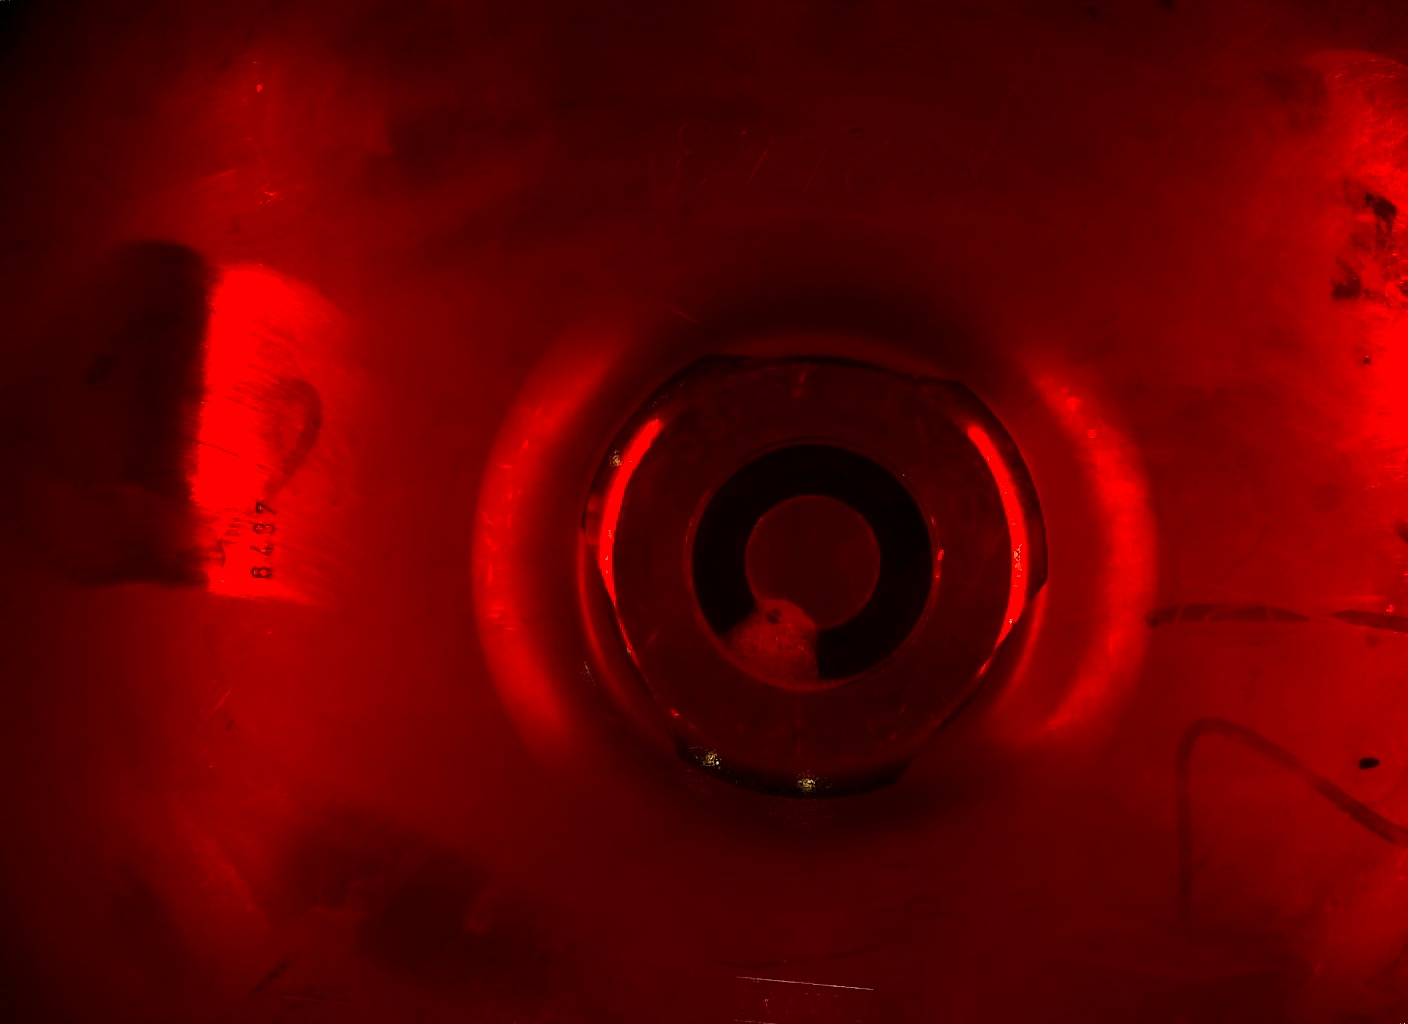pena: (705, 590, 841, 702)
